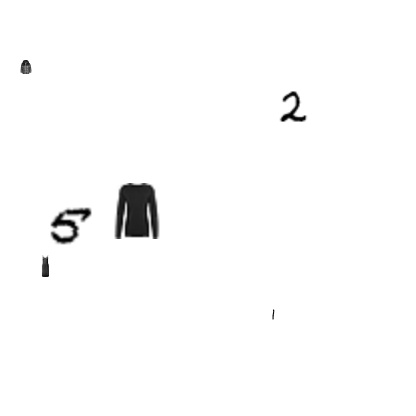1: (266, 307, 280, 321)
2: (271, 87, 313, 129)
5: (41, 196, 97, 252)
Coat: (19, 60, 33, 74)
Dress: (34, 255, 56, 277)
Pullover: (109, 183, 165, 239)
